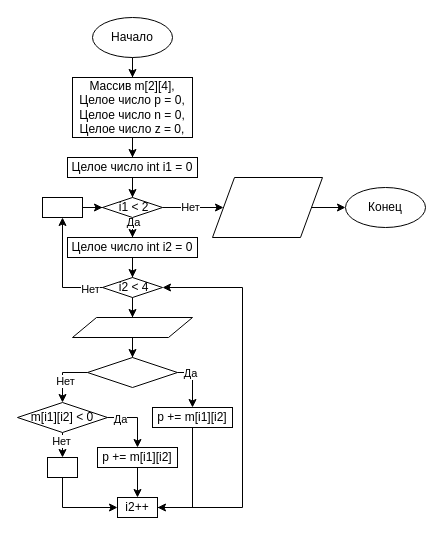
Some shapes in this 443 by 535 pixel diagram are drawn without their labels. The shapes that lost their labels are listed below. From the top down, each one's centre as x and y in pixels, then its label:
pixel 62 207: i1++
pixel 267 207: Вывод "positive ", p, ", negative ", n, ", zeroes ", z
pixel 132 327: Ввод m[i1][i2]
pixel 132 372: m[i1][i2] > 0
pixel 62 467: z++
